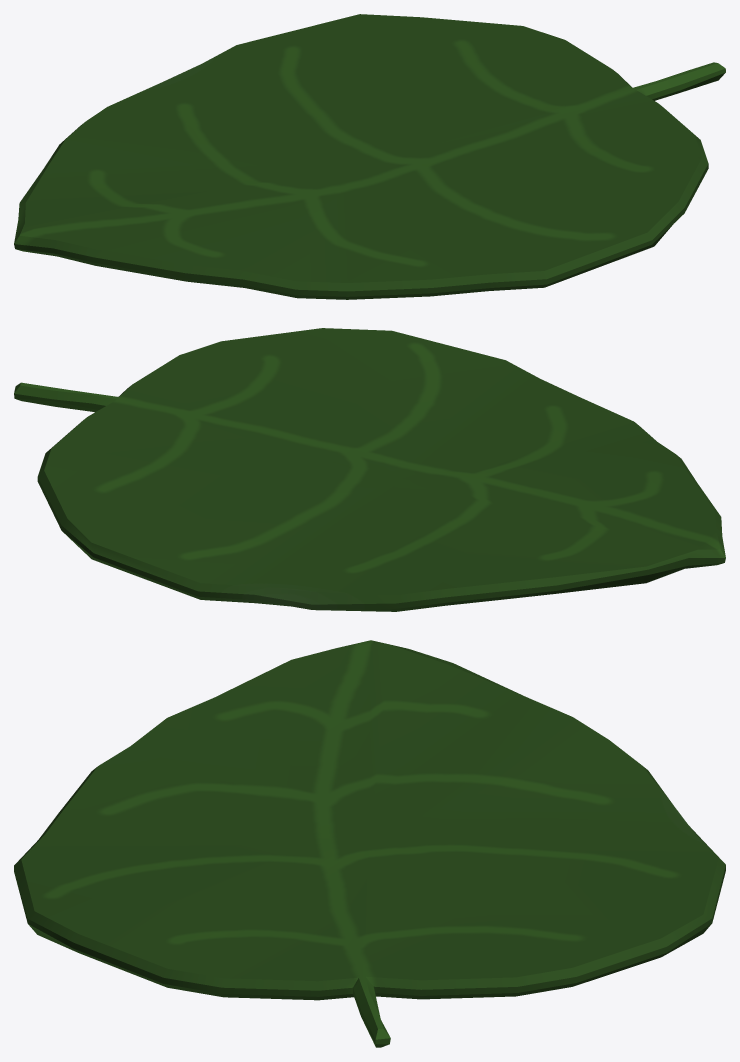
File: leafsym2.fbx
3 renders of one model, top to bottom at view 1: azimuth 30°, elevation 25°; view 2: azimuth 150°, elevation 25°; view 3: azimuth 270°, elevation 25°, orthographic. The views are drawn at different scales.
Parts seen in each view (by area): view 1: Leaf.001; view 2: Leaf.001; view 3: Leaf.001.
Part boxes in pixels (x1,y1,x2,y2): Leaf.001: (14, 14, 725, 299); Leaf.001: (14, 328, 725, 611); Leaf.001: (14, 640, 725, 1047).
Bounding box in the file's own units: 444 × 19.48 × 338.
